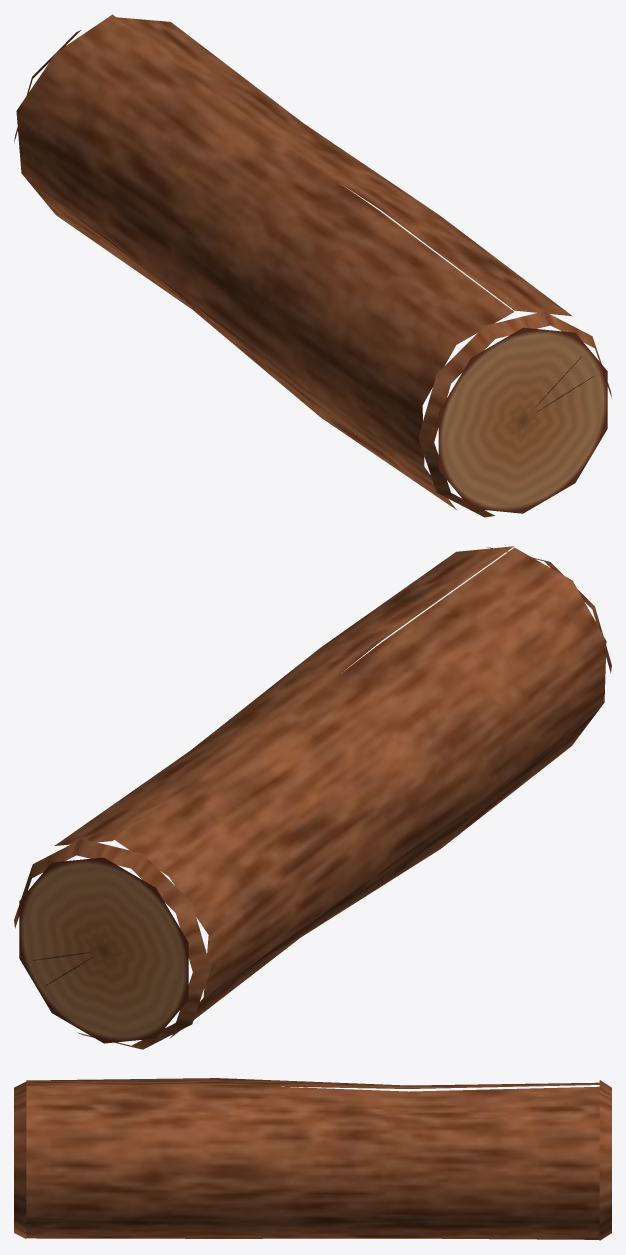
Rendered from pine_rod.glb.
3 views of the same model, one above another, from view 1: azimuth 30°, elevation 25°; view 2: azimuth 150°, elevation 25°; view 3: azimuth 270°, elevation 25° (orthographic). The views are drawn at different scales.
Parts seen in each view (by area): view 1: pine_rod; view 2: pine_rod; view 3: pine_rod.
Part boxes in pixels (box(x1,y1,x2,y2)): pine_rod: box(14, 14, 611, 517); pine_rod: box(14, 546, 611, 1049); pine_rod: box(14, 1078, 611, 1240).
Bounding box in the file's own units: 0.266 × 0.2732 × 0.98.
2 materials, 2 textured.
